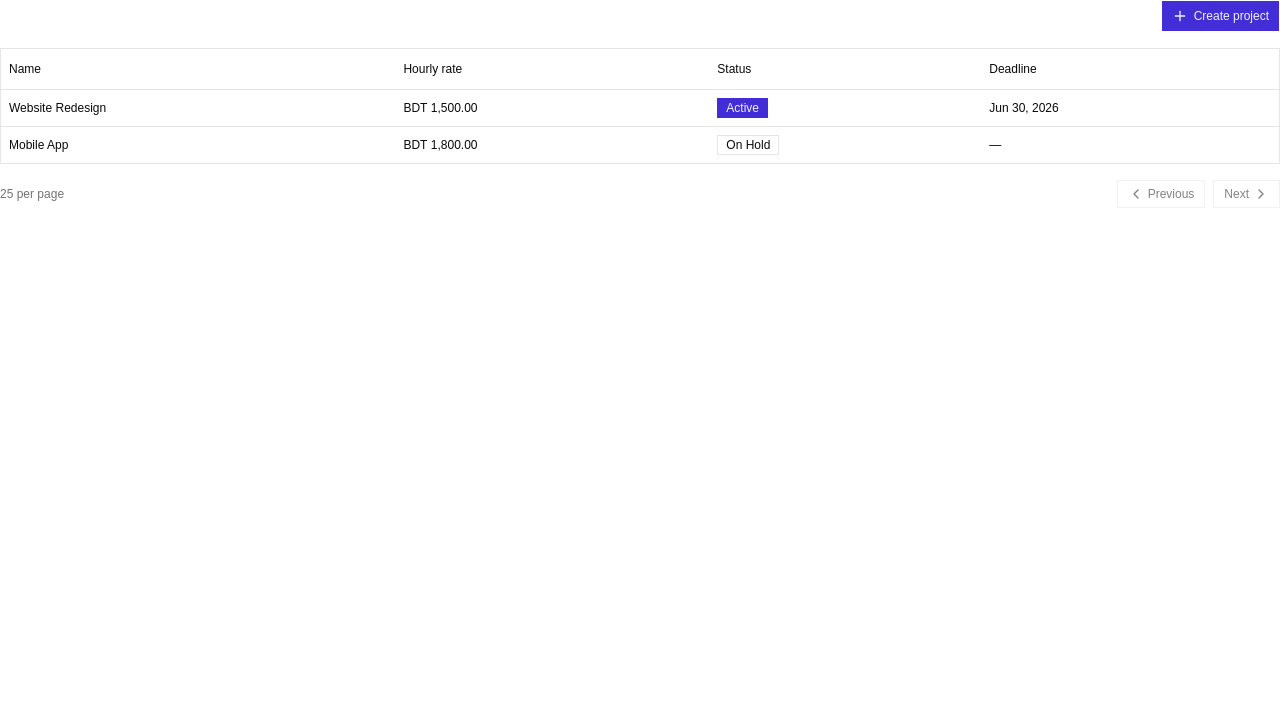
Test case: ClientProjectsTab › opens create dialog from tab action
expect the text "Website Redesign" is shown: met, box [1,89,396,126]
Click the button "Create project". click: coordinates (1220, 16)
box: [1161,0,1279,32]
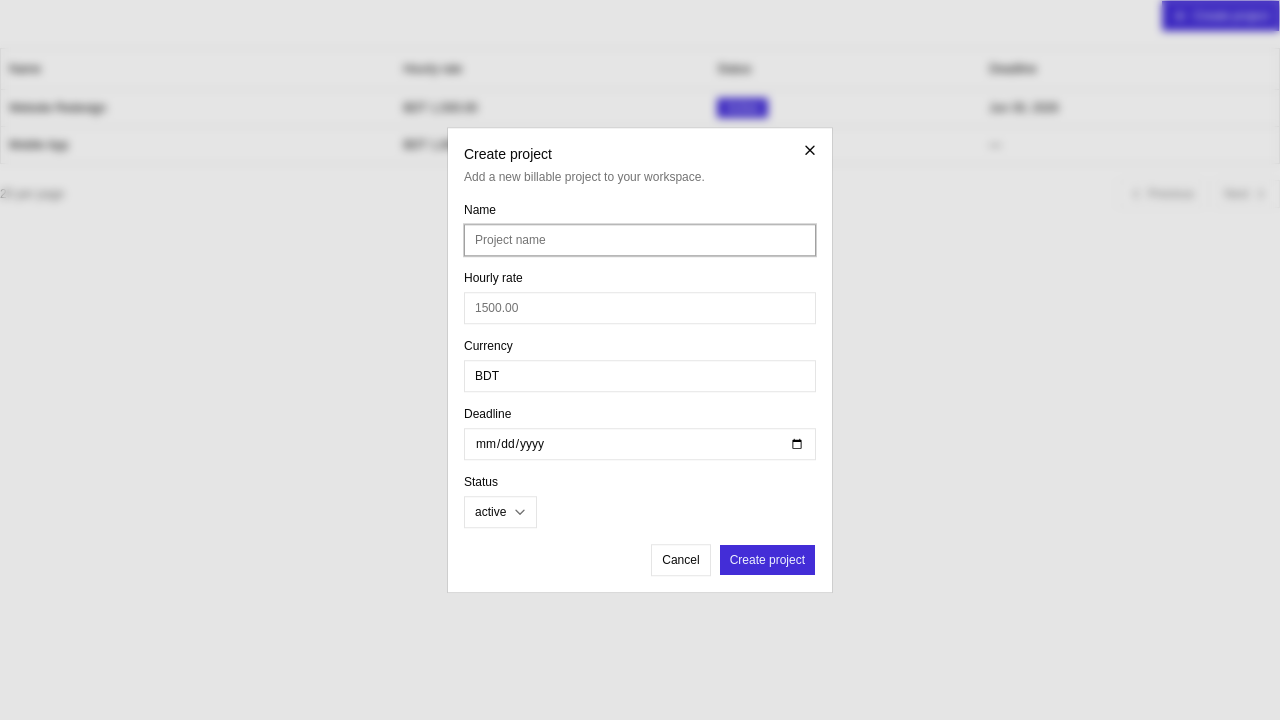
expect the heading "Create project" is shown: met, box [464,146,552,162]
